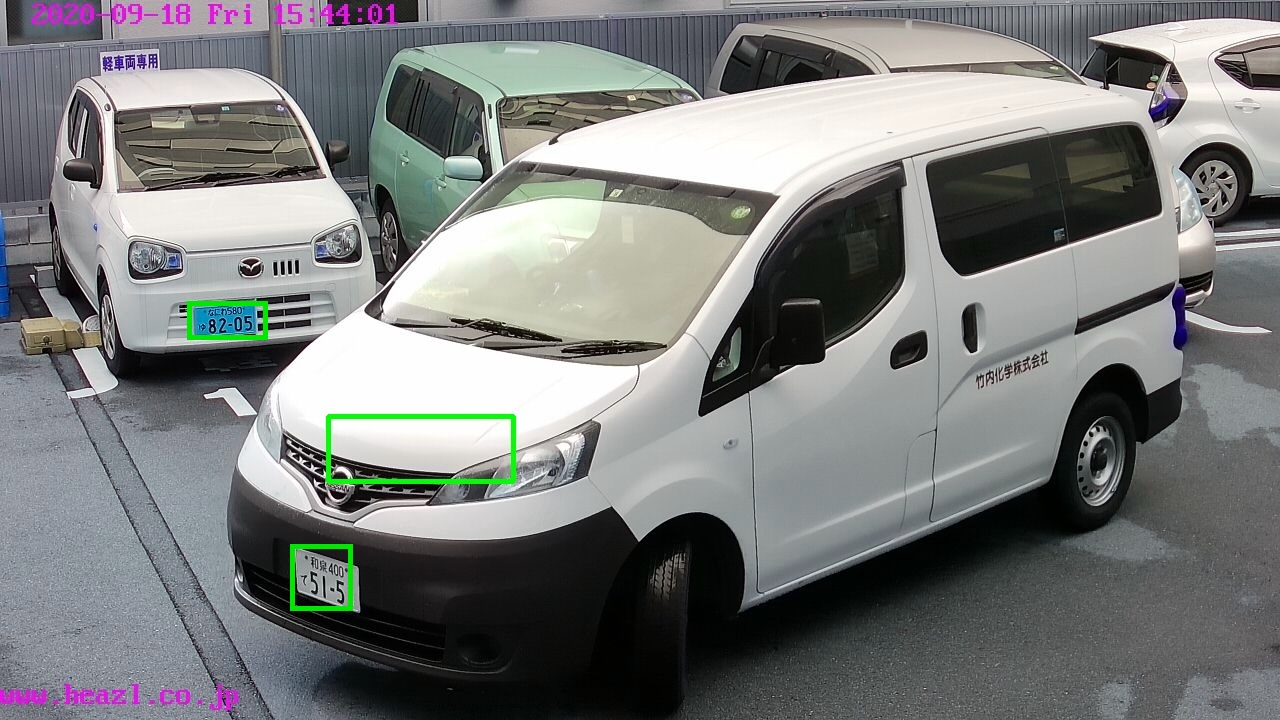number_plate: (296, 547, 359, 608), (191, 303, 261, 337)
